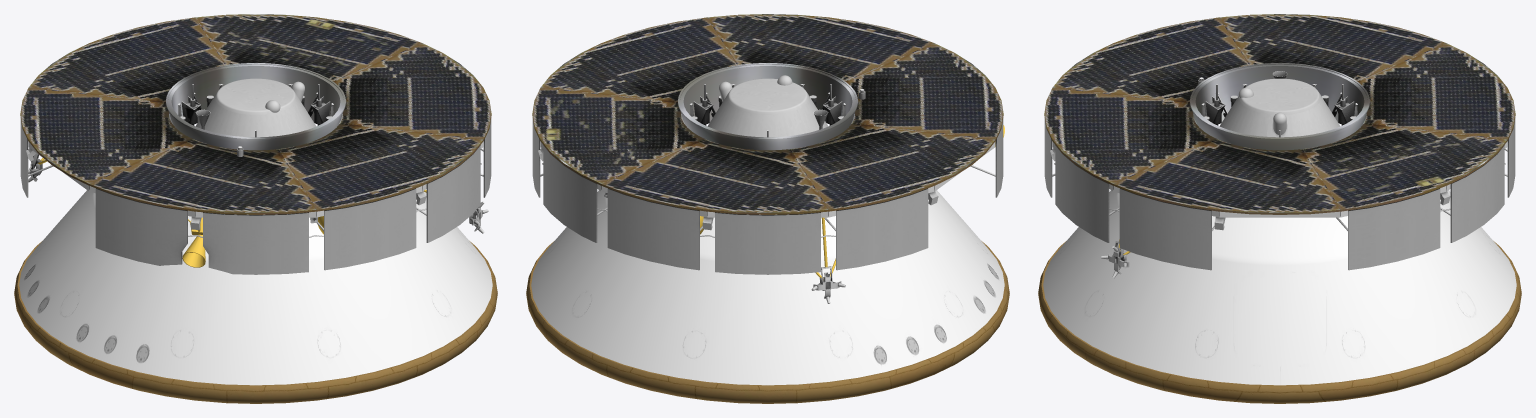
Rendered from msl_cruisestage.gltf.
3 views of the same model, side by side, from view 1: azimuth 30°, elevation 25°; view 2: azimuth 150°, elevation 25°; view 3: azimuth 270°, elevation 25° (orthographic).
Visible parts, largest first — view 1: solar_panels., back_shell, frame_etc, heat_shield, cone, chute_cap; view 2: solar_panels., back_shell, frame_etc, heat_shield, cone, chute_cap; view 3: solar_panels., back_shell, frame_etc, heat_shield, cone, chute_cap.
Part boxes in pixels (box(x1,y1,x2,y2)): solar_panels.: box(20, 14, 491, 214); back_shell: box(19, 190, 492, 385); frame_etc: box(20, 63, 491, 274); heat_shield: box(14, 241, 497, 403); cone: box(195, 81, 316, 137); chute_cap: box(215, 78, 296, 114); solar_panels.: box(532, 14, 1003, 214); back_shell: box(531, 190, 1004, 385); frame_etc: box(532, 63, 1004, 303); heat_shield: box(526, 241, 1009, 403); cone: box(707, 81, 828, 137); chute_cap: box(727, 75, 808, 114); solar_panels.: box(1044, 14, 1515, 214); back_shell: box(1043, 190, 1516, 385); frame_etc: box(1044, 63, 1515, 278); heat_shield: box(1038, 241, 1521, 403); cone: box(1219, 94, 1340, 137); chute_cap: box(1238, 78, 1320, 114).
Bounding box in the file's own units: 4.5 × 2.95 × 4.5.
Materials: 12 (10 with a texture image).
